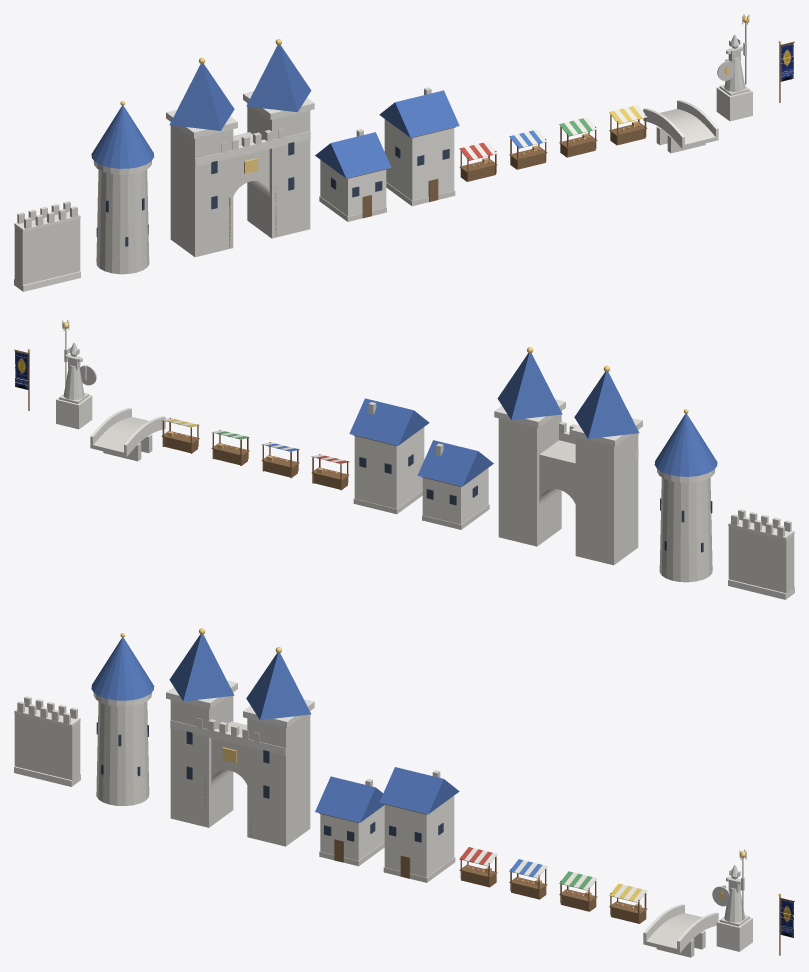
Rendered from aldermoor_modules.glb.
3 renders of one model, top to bottom at view 1: azimuth 30°, elevation 25°; view 2: azimuth 150°, elevation 25°; view 3: azimuth 330°, elevation 25°, orthographic.
Visible parts, largest first — view 1: Aldermoor_gatehouse, Aldermoor_tower, Aldermoor_tallhouse, Aldermoor_house, Aldermoor_wall, Aldermoor_bridge, Aldermoor_statue, Aldermoor_stall_y, Aldermoor_stall_b, Aldermoor_stall_r, Aldermoor_stall_g, Aldermoor_banner; view 2: Aldermoor_gatehouse, Aldermoor_tower, Aldermoor_tallhouse, Aldermoor_wall, Aldermoor_house, Aldermoor_bridge, Aldermoor_statue, Aldermoor_stall_y, Aldermoor_stall_g, Aldermoor_stall_b, Aldermoor_stall_r, Aldermoor_banner; view 3: Aldermoor_gatehouse, Aldermoor_tower, Aldermoor_tallhouse, Aldermoor_wall, Aldermoor_house, Aldermoor_bridge, Aldermoor_statue, Aldermoor_stall_y, Aldermoor_stall_b, Aldermoor_stall_g, Aldermoor_stall_r, Aldermoor_banner.
Boxes of the visible parts, x1,y1,x2,y2 form: Aldermoor_gatehouse: (166,39,314,257); Aldermoor_tower: (91,101,154,274); Aldermoor_tallhouse: (379,87,459,206); Aldermoor_house: (315,129,391,221); Aldermoor_wall: (14,201,80,291); Aldermoor_bridge: (643,100,718,153); Aldermoor_statue: (716,14,752,121); Aldermoor_stall_y: (609,105,647,145); Aldermoor_stall_b: (509,129,547,169); Aldermoor_stall_r: (459,141,497,181); Aldermoor_stall_g: (559,117,597,157); Aldermoor_banner: (778,40,794,102); Aldermoor_gatehouse: (494,347,642,565); Aldermoor_tower: (654,409,717,582); Aldermoor_tallhouse: (349,398,429,514); Aldermoor_wall: (728,509,794,599); Aldermoor_house: (417,440,493,529); Aldermoor_bridge: (90,408,165,461); Aldermoor_statue: (56,320,96,429); Aldermoor_stall_y: (161,417,199,453); Aldermoor_stall_g: (211,430,249,465); Aldermoor_stall_b: (261,442,299,478); Aldermoor_stall_r: (311,454,349,490); Aldermoor_banner: (14,348,30,410); Aldermoor_gatehouse: (166,628,314,846); Aldermoor_tower: (91,633,154,805); Aldermoor_tallhouse: (379,767,459,882); Aldermoor_wall: (14,696,80,786); Aldermoor_house: (315,776,384,866); Aldermoor_bridge: (643,904,718,957); Aldermoor_statue: (712,849,752,951); Aldermoor_stall_y: (609,883,647,923); Aldermoor_stall_b: (509,859,547,899); Aldermoor_stall_g: (559,871,597,911); Aldermoor_stall_r: (459,847,497,887); Aldermoor_banner: (778,893,794,955).
Bounding box in the file's own units: 80.85 × 20.2 × 7.
16 materials, 1 textured.
